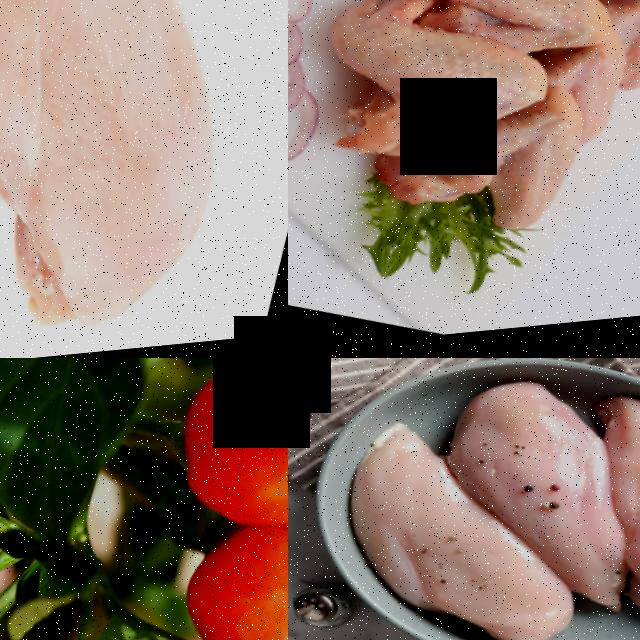chicken breast: (0, 0, 288, 358), (431, 358, 640, 585), (328, 480, 560, 640)
chicken wing: (307, 0, 564, 204)
